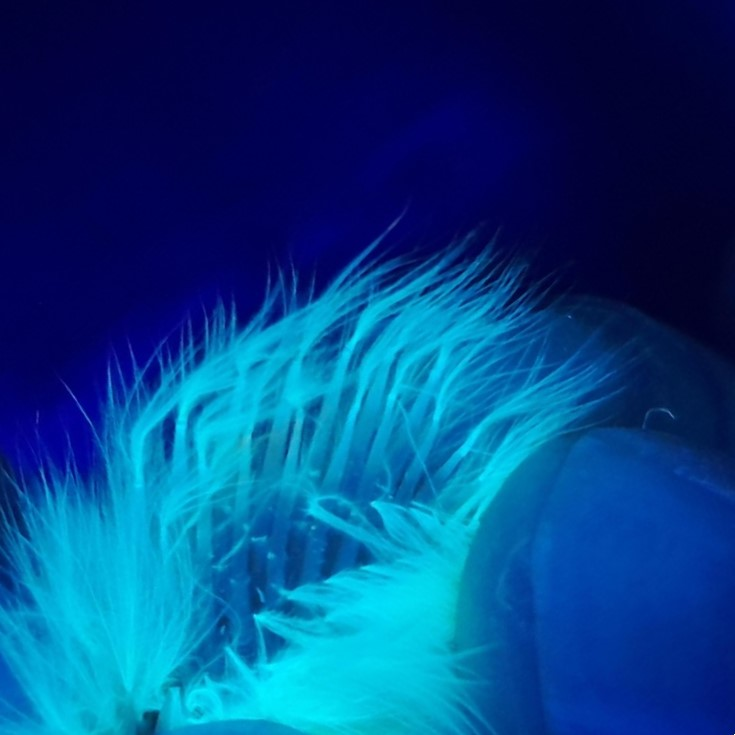female: (159, 333, 496, 659)
